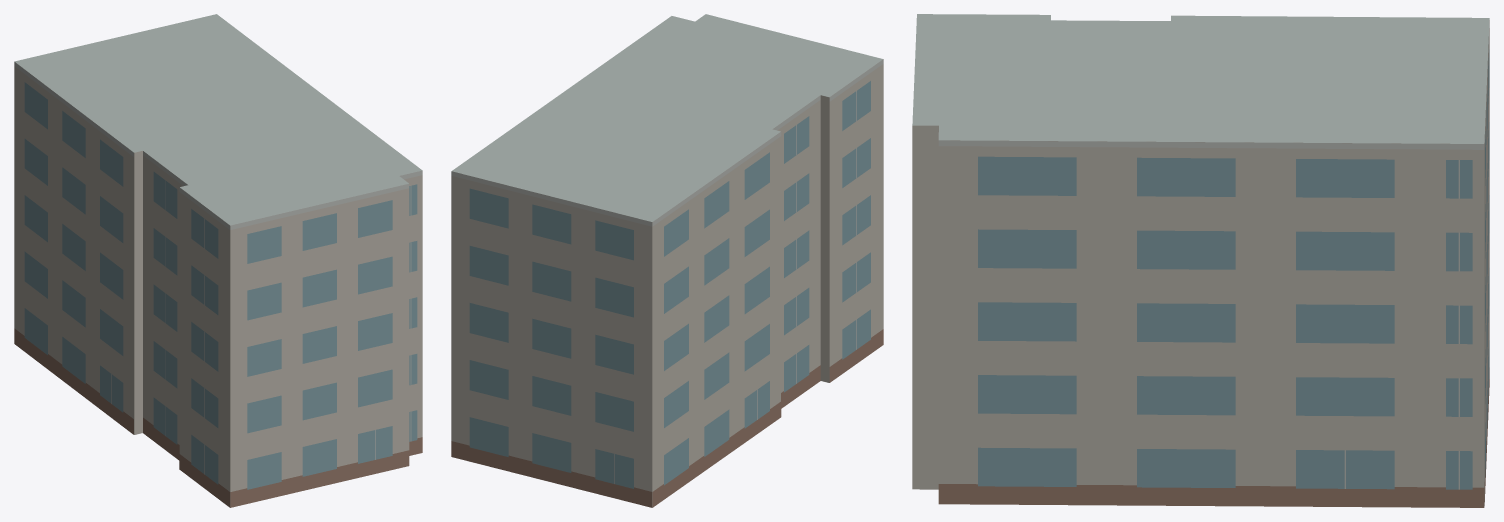
Rendered from survey-upis-32670252.glb.
The picture shows the model from 3 angles, left to right: view 1: azimuth 30°, elevation 25°; view 2: azimuth 150°, elevation 25°; view 3: azimuth 270°, elevation 25°; orthographic projection. The views are drawn at different scales.
Visible parts, largest first — view 1: survey-upis-32670252.tmp; view 2: survey-upis-32670252.tmp; view 3: survey-upis-32670252.tmp.
Boxes of the visible parts, x1=… form: survey-upis-32670252.tmp: x1=14, y1=14, x2=422, y2=507; survey-upis-32670252.tmp: x1=451, y1=14, x2=883, y2=507; survey-upis-32670252.tmp: x1=912, y1=14, x2=1489, y2=507.
Size of the model in its own units: 11.58 by 15.1 by 21.72.
